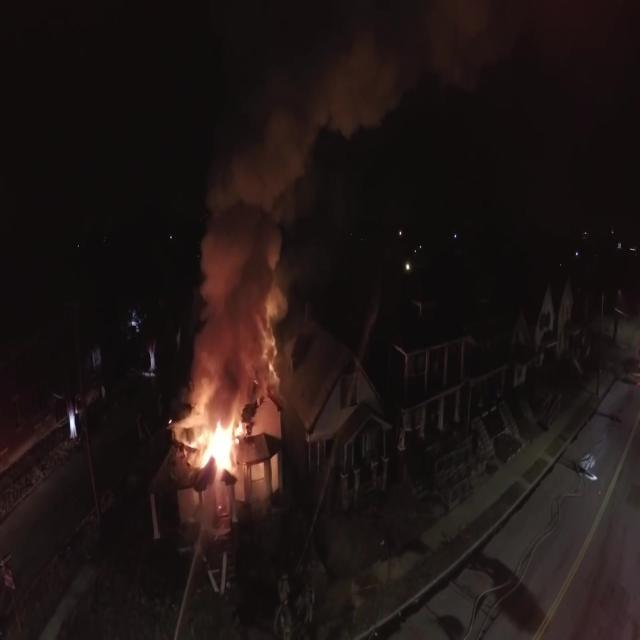Fire: (208, 423, 236, 474)
Smoke: (188, 78, 295, 404)
